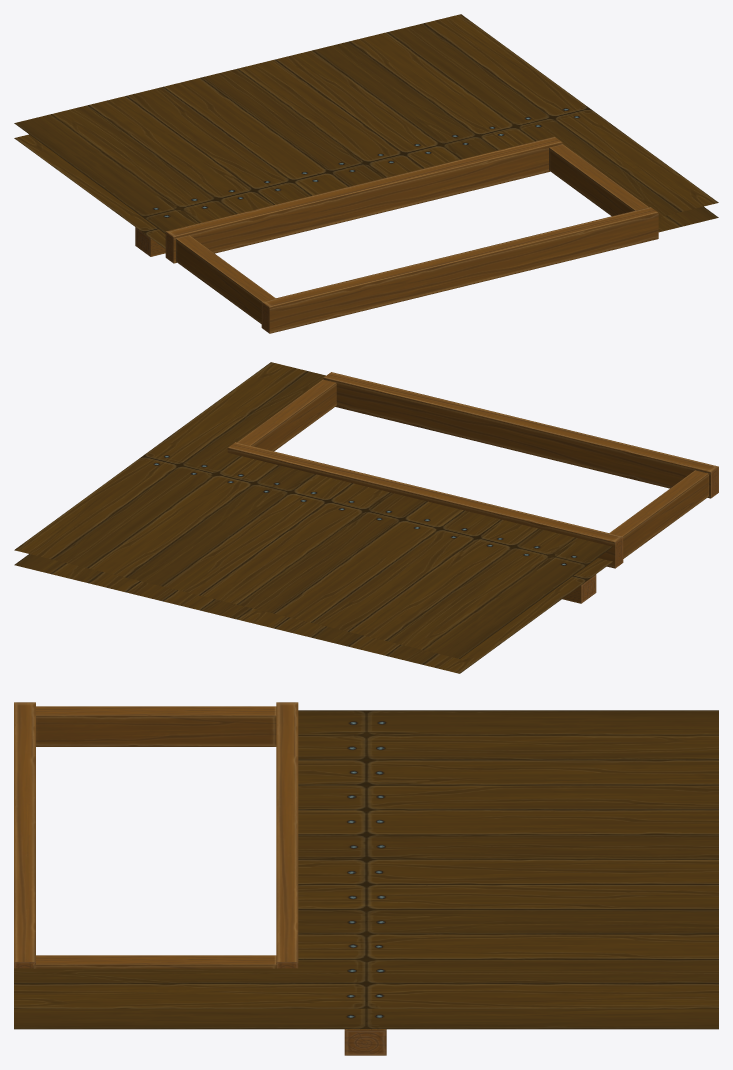
Rendered from SM_House_Floor_5x4_Hatch_01.fbx.
The picture shows the model from 3 angles, top to bottom: view 1: azimuth 30°, elevation 25°; view 2: azimuth 150°, elevation 25°; view 3: azimuth 270°, elevation 25°; orthographic projection. The views are drawn at different scales.
Parts seen in each view (by area): view 1: SM_House_Floor_5x4_Hatch_01; view 2: SM_House_Floor_5x4_Hatch_01; view 3: SM_House_Floor_5x4_Hatch_01.
Part boxes in pixels (x1,y1,x2,y2): SM_House_Floor_5x4_Hatch_01: (14,14,718,333); SM_House_Floor_5x4_Hatch_01: (14,362,718,673); SM_House_Floor_5x4_Hatch_01: (14,702,718,1055).
Bounding box in the file's own units: 5.04 × 0.411 × 5.
